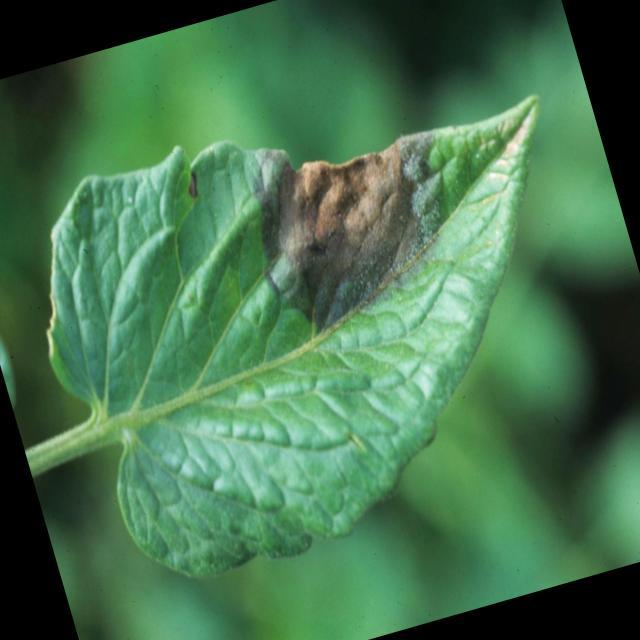Tomato late blight leaf: (2, 45, 640, 608)
